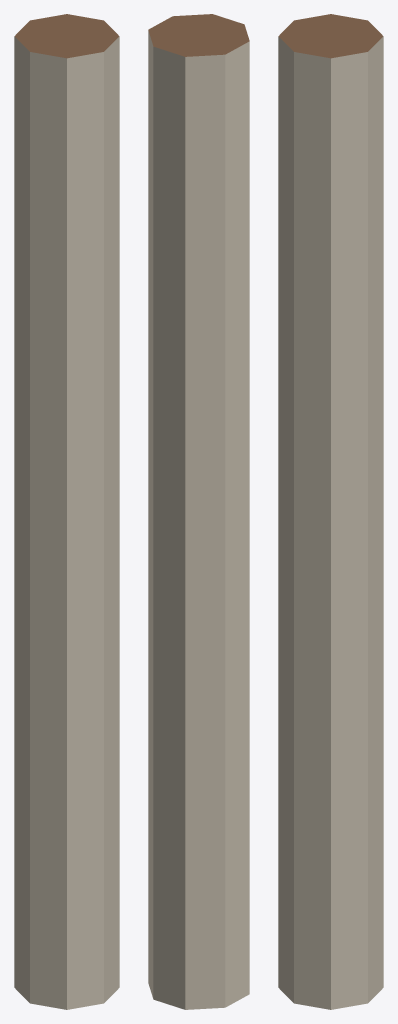
The model's file is Structure_Wall_Inner_Joint_Main.obj.
The picture shows the model from 3 angles, left to right: view 1: azimuth 90°, elevation 25°; view 2: azimuth 210°, elevation 25°; view 3: azimuth 270°, elevation 25°; orthographic projection.
Visible parts, largest first — view 1: object1; view 2: object1; view 3: object1.
Boxes of the visible parts, x1,y1,x2,y2 form: object1: [14, 14, 119, 1009]; object1: [148, 14, 249, 1009]; object1: [278, 14, 383, 1009].
Size of the model in its own units: 0.1 by 1 by 0.1.
